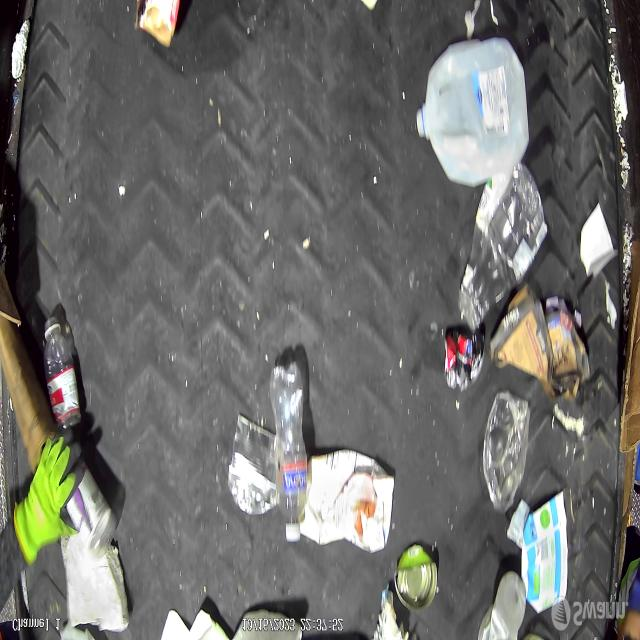can: (227, 412, 279, 518), (395, 541, 440, 611), (444, 324, 485, 392)
milk_jug: (419, 36, 532, 187)
non_white_jug: (299, 448, 395, 554)
plastic_bottle: (456, 162, 547, 332), (272, 359, 308, 543), (482, 390, 531, 514), (41, 320, 82, 430)
